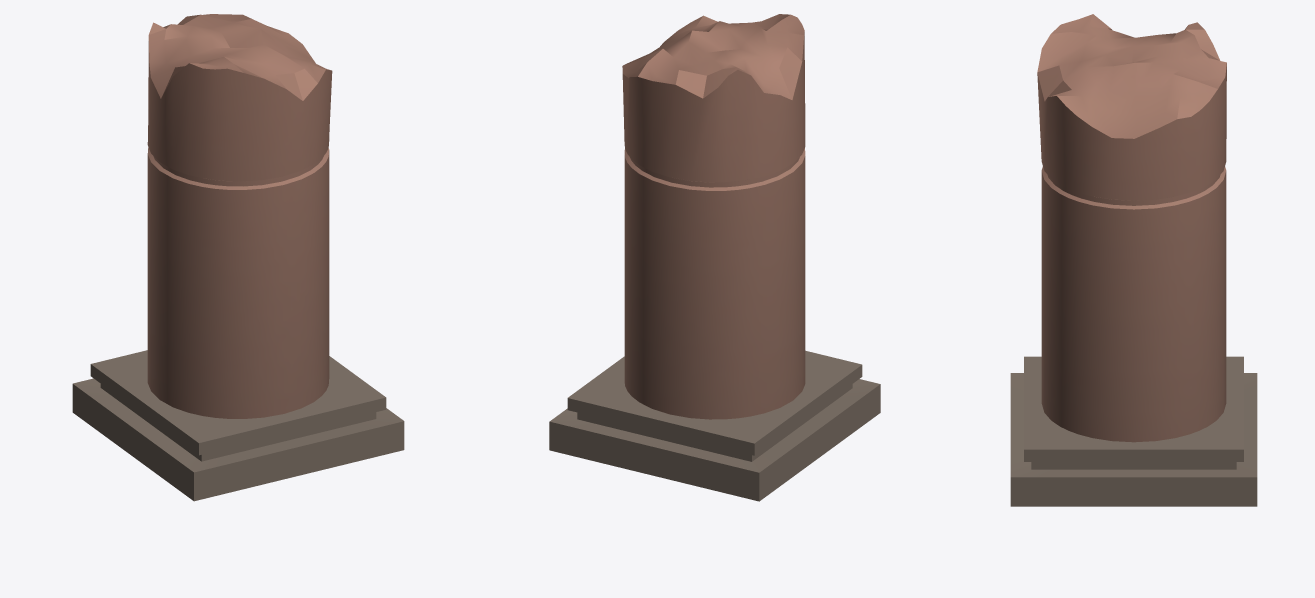
File: obj_Ruins.002.fbx
3 views of the same model, side by side, from view 1: azimuth 30°, elevation 25°; view 2: azimuth 150°, elevation 25°; view 3: azimuth 270°, elevation 25° (orthographic).
Parts seen in each view (by area): view 1: Cube.082; view 2: Cube.082; view 3: Cube.082.
Boxes of the visible parts, bbox=[...] form: Cube.082: bbox=[72, 14, 404, 501]; Cube.082: bbox=[549, 14, 880, 501]; Cube.082: bbox=[1010, 14, 1257, 506].
Size of the model in its own units: 108 by 167 by 108.
